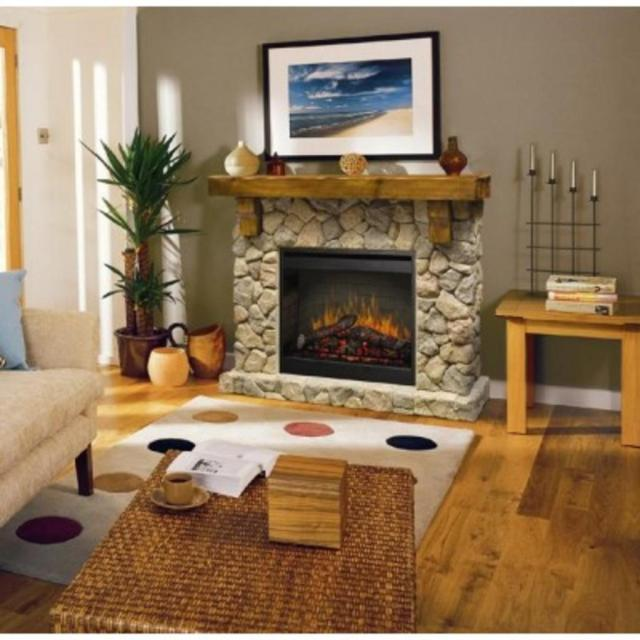Fire: (310, 296, 396, 356)
